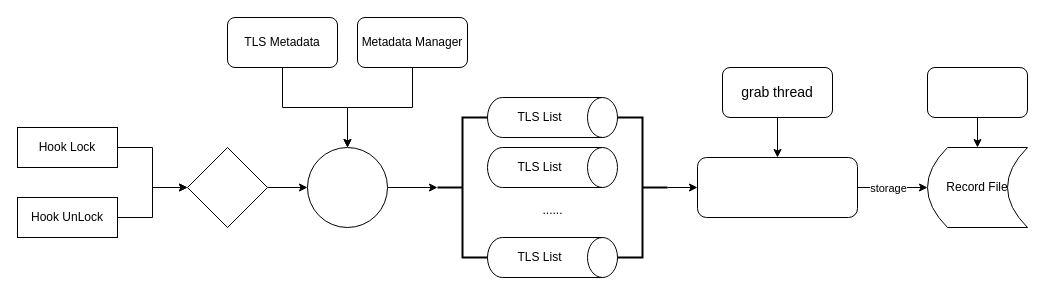
The diagram is 1045 pixels wide and 295 high, and some of its shapes have lost their labels. The centre of each missing label's shape, as x and y in pixels:
"dump thread" belongs at pixel 977 92.
"Is Sample" belongs at pixel 227 187.
"Matedata" belongs at pixel 347 187.
"Process" belongs at pixel 777 187.
